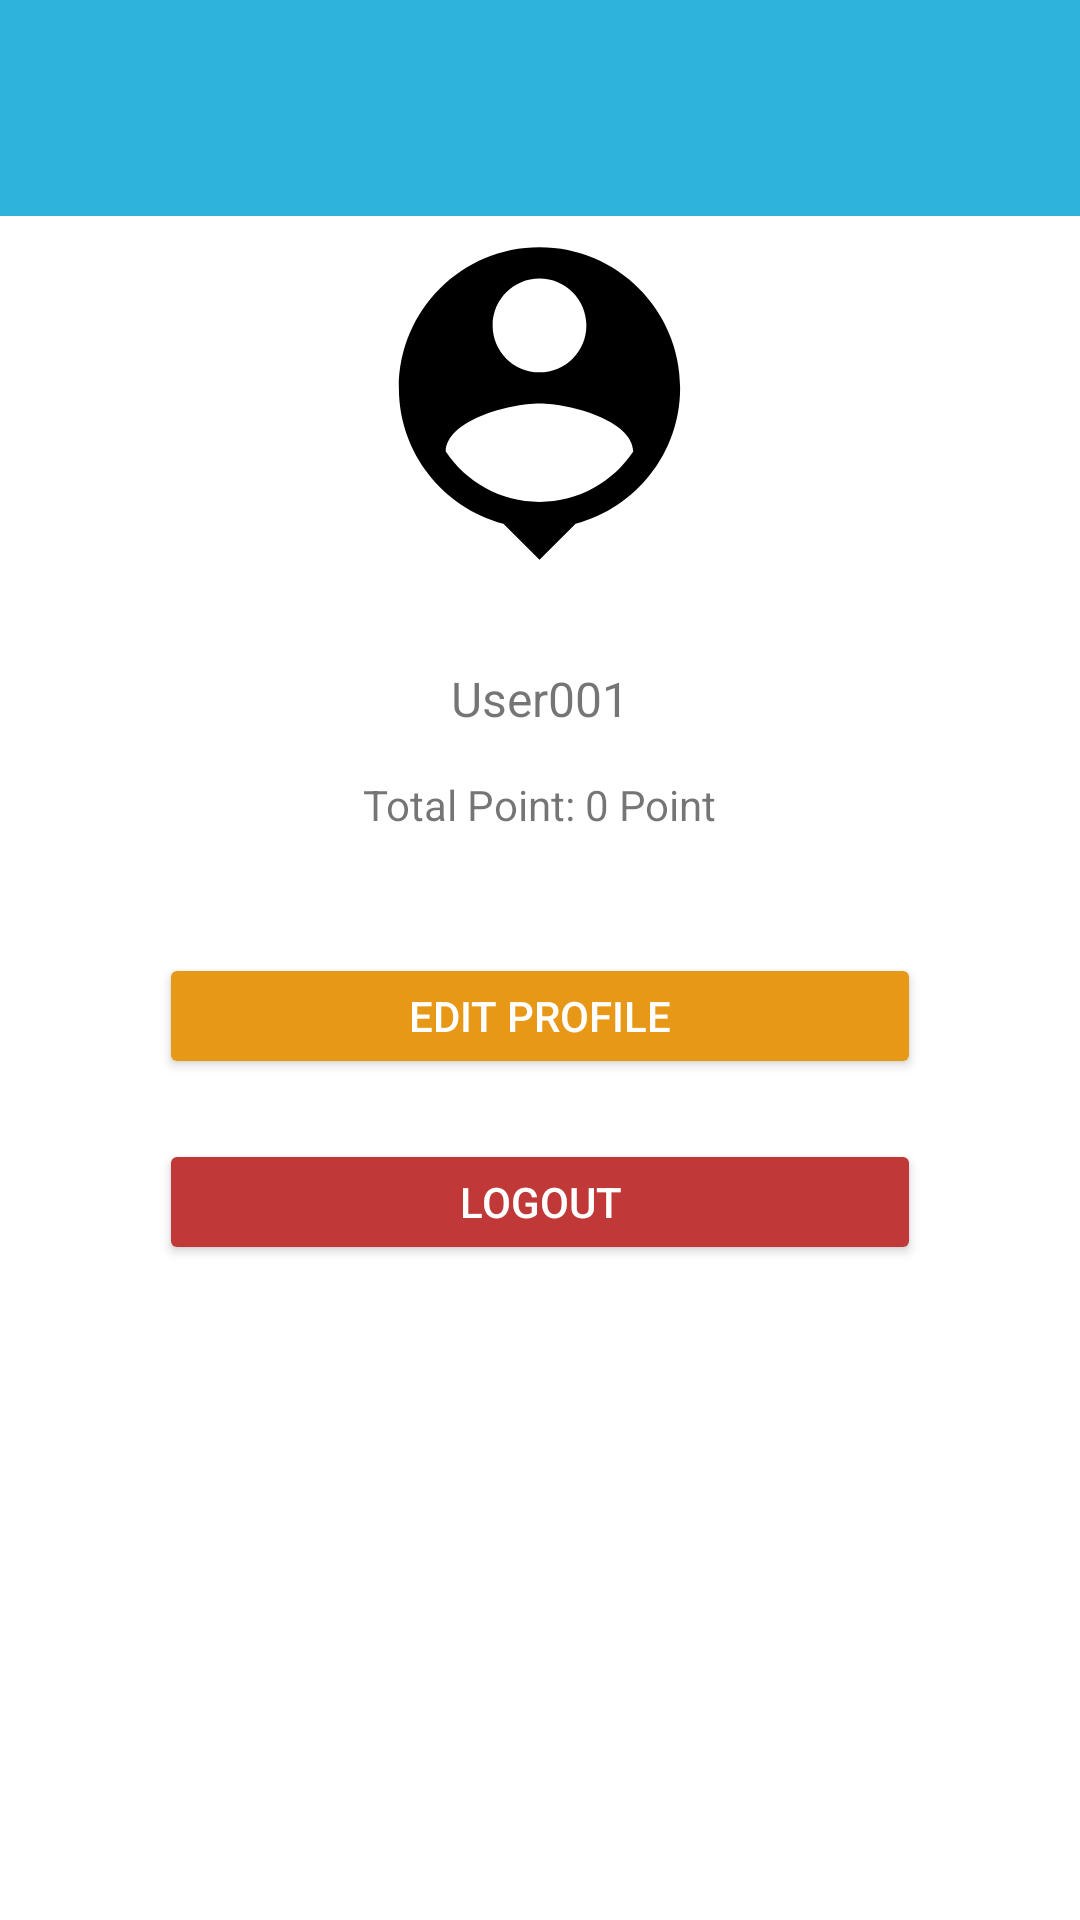

Locate icon controls on the screen. Image size 1080px x 1920px, boxes as (x1, y1, x2, y2).
person pin: (398, 247, 681, 560)
